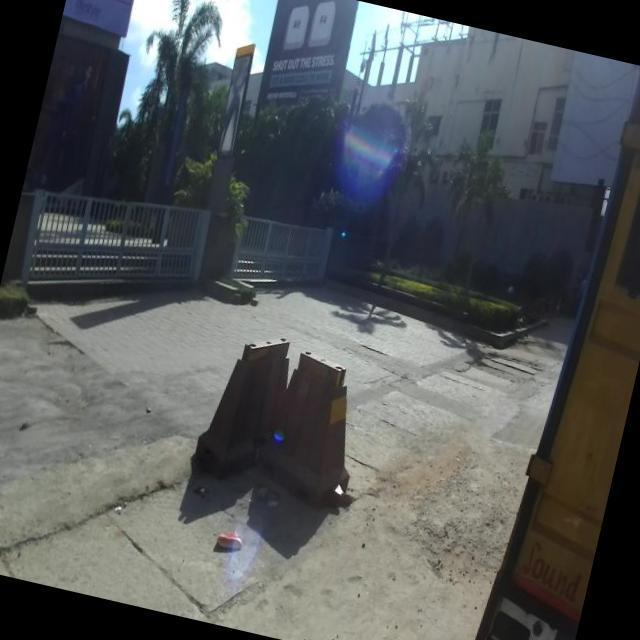Pothole: (388, 373, 532, 604)
